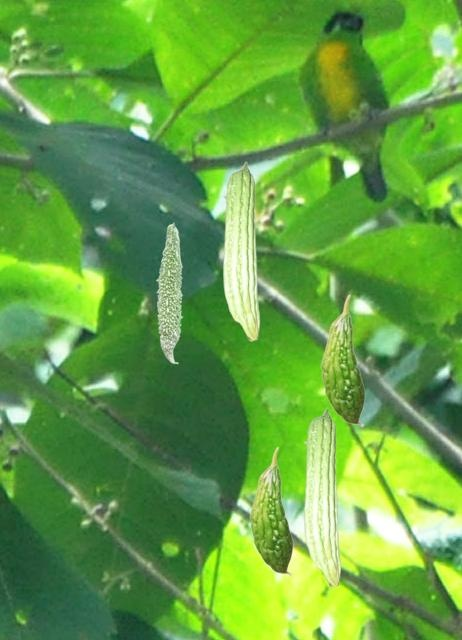ampalaya: (303, 407, 341, 587), (222, 161, 260, 341), (320, 294, 365, 427), (249, 446, 293, 576), (155, 222, 183, 364)
